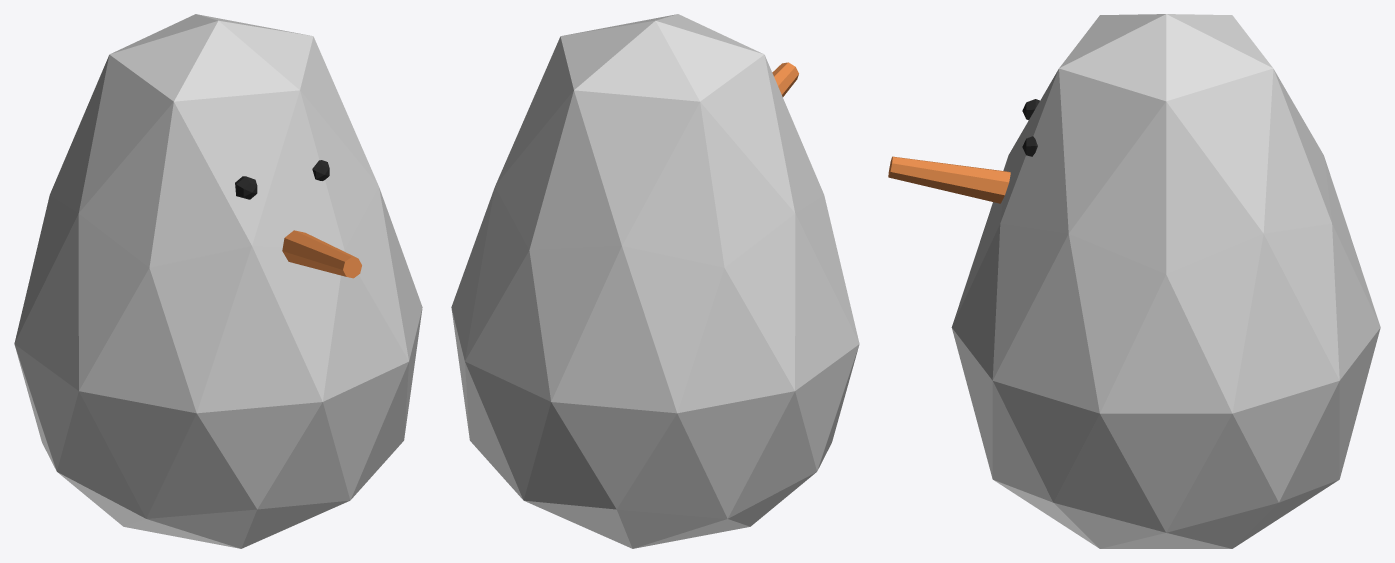
The model's file is SnowMole1.fbx.
The picture shows the model from 3 angles, left to right: view 1: azimuth 30°, elevation 25°; view 2: azimuth 150°, elevation 25°; view 3: azimuth 270°, elevation 25°; orthographic projection. The views are drawn at different scales.
Parts seen in each view (by area): view 1: Cylinder; view 2: Cylinder; view 3: Cylinder.
Part boxes in pixels (left/top/right/bottom): Cylinder: left=14, top=14, right=422, bottom=548; Cylinder: left=451, top=14, right=859, bottom=548; Cylinder: left=888, top=14, right=1380, bottom=548.
Size of the model in its own units: 190 by 273 by 230.
